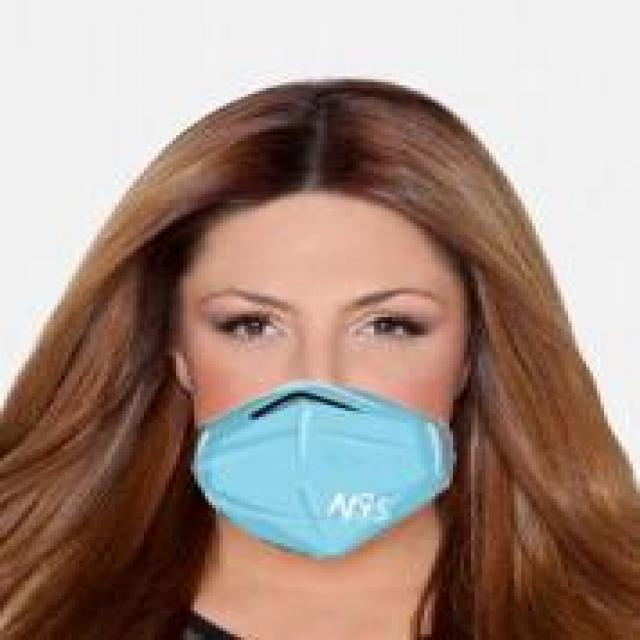mask: (108, 29, 572, 599)
